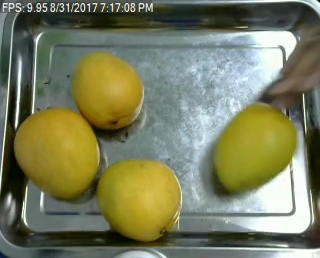Mango: (14, 108, 101, 199), (97, 158, 182, 242), (212, 102, 295, 188), (73, 54, 146, 129)
